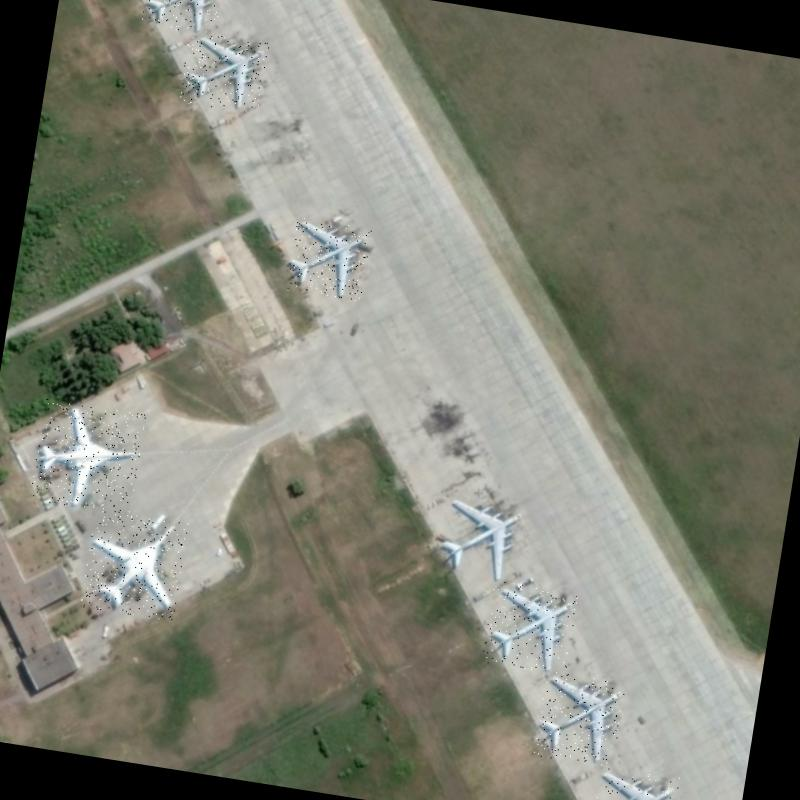A17: (481, 580, 578, 675), (532, 670, 626, 768), (434, 495, 526, 585), (284, 215, 372, 302), (178, 30, 269, 114), (590, 765, 680, 800), (140, 0, 225, 35)
A6: (29, 399, 146, 516), (80, 509, 188, 621)
